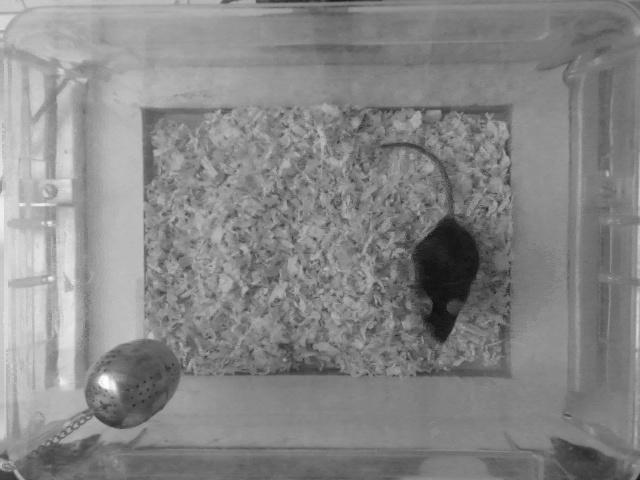mice: (381, 140, 480, 345)
